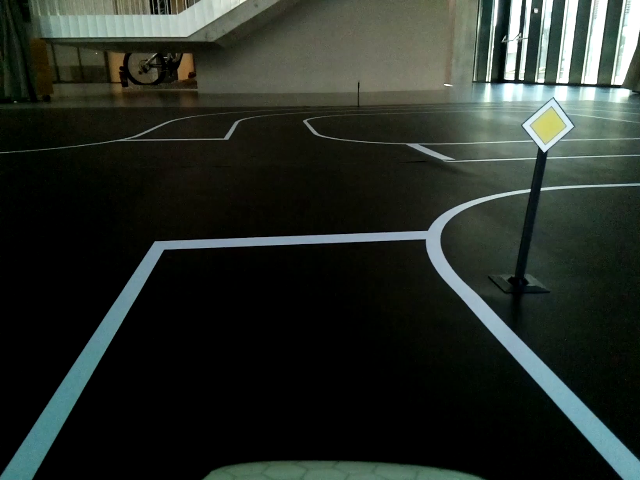priority: (525, 105, 570, 148)
